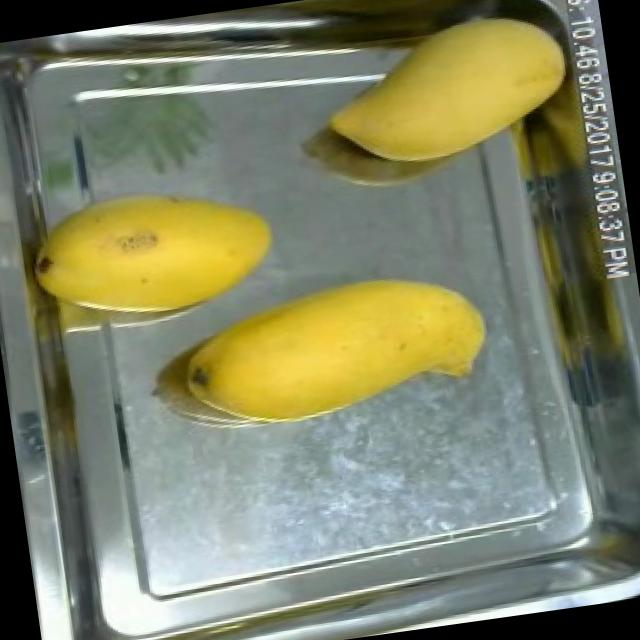fruit: (166, 247, 504, 448), (301, 0, 586, 186), (17, 162, 293, 342)
